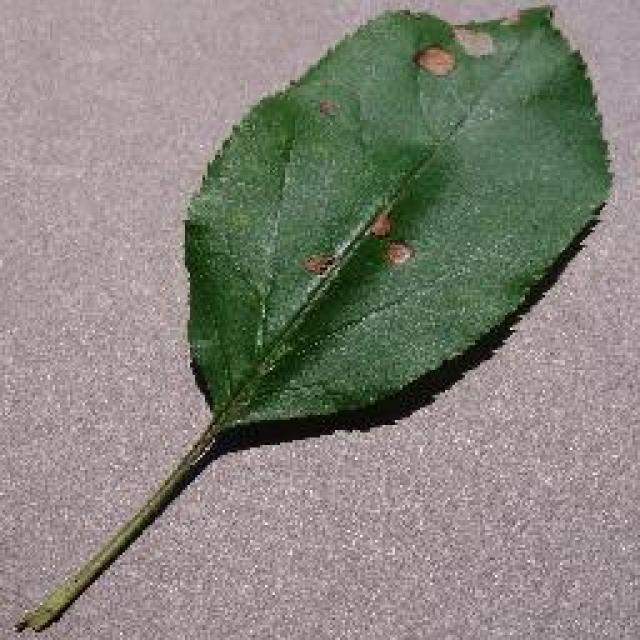Black_rot: (13, 2, 615, 632), (180, 2, 612, 438)
